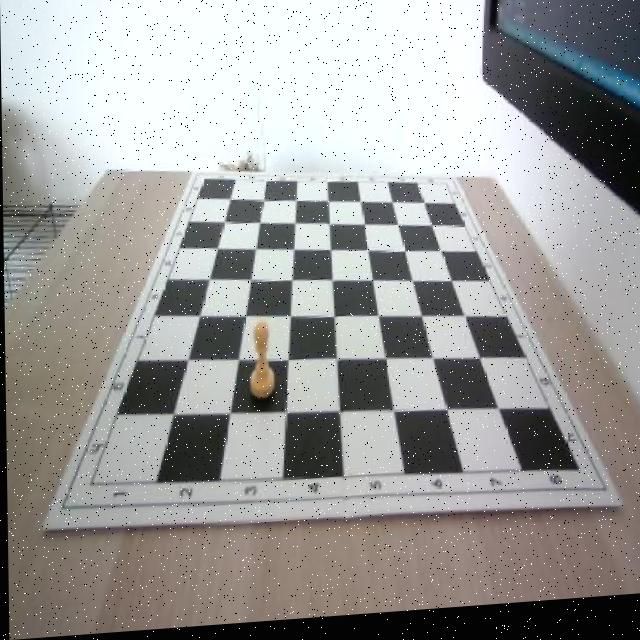white-knight: (247, 323, 275, 403)
